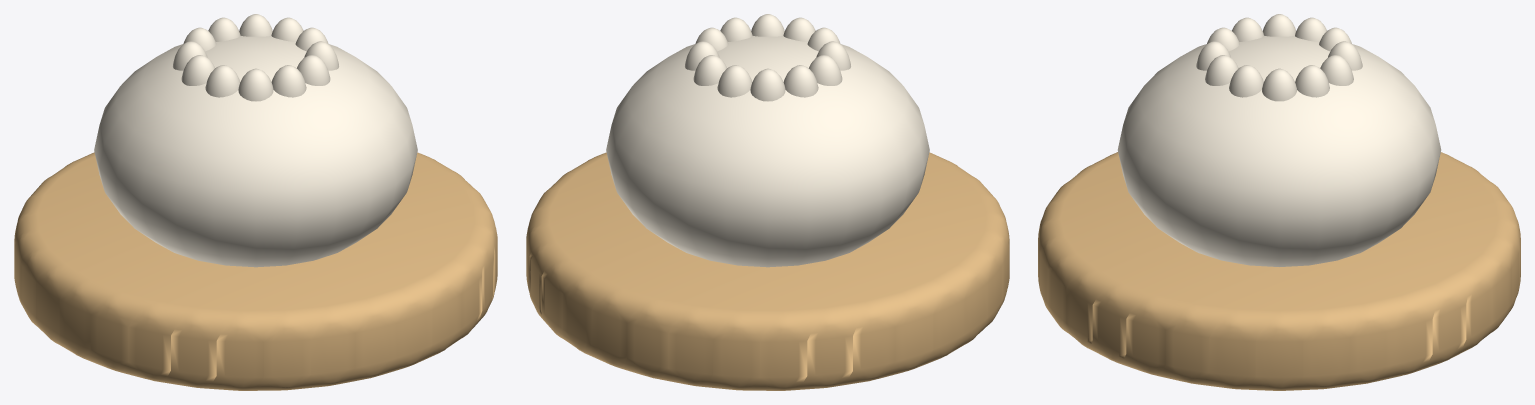
File: Hat_Xiaolongbao.glb
3 views of the same model, side by side, from view 1: azimuth 30°, elevation 25°; view 2: azimuth 150°, elevation 25°; view 3: azimuth 270°, elevation 25° (orthographic).
Parts seen in each view (by area): view 1: Cylinder, Sphere, Sphere.009, Sphere.010, Sphere.008, Sphere.007, Sphere.011, Sphere.003, Sphere.002, Sphere.004, Sphere.006, Sphere.012 (+2 smaller); view 2: Cylinder, Sphere, Sphere.005, Sphere.004, Sphere.006, Sphere.003, Sphere.007, Sphere.011, Sphere.010, Sphere.012, Sphere.002, Sphere.008 (+2 smaller); view 3: Cylinder, Sphere, Sphere.001, Sphere.002, Sphere.012, Sphere.003, Sphere.011, Sphere.007, Sphere.006, Sphere.008, Sphere.004, Sphere.010 (+2 smaller).
Boxes of the visible parts, box(x1,y1,x2,y2) form: Cylinder: box(14, 152, 497, 390); Sphere: box(94, 36, 417, 267); Sphere.009: box(238, 68, 273, 101); Sphere.010: box(271, 65, 306, 97); Sphere.008: box(205, 65, 240, 97); Sphere.007: box(181, 55, 214, 85); Sphere.011: box(297, 55, 330, 85); Sphere.003: box(239, 14, 272, 36); Sphere.002: box(271, 17, 303, 41); Sphere.004: box(208, 17, 240, 41); Sphere.006: box(173, 41, 207, 70); Sphere.012: box(304, 41, 338, 70); Cylinder: box(526, 152, 1009, 390); Sphere: box(606, 36, 929, 267); Sphere.005: box(750, 68, 785, 101); Sphere.004: box(717, 65, 752, 97); Sphere.006: box(783, 65, 818, 97); Sphere.003: box(693, 55, 726, 85); Sphere.007: box(809, 55, 842, 85); Sphere.011: box(751, 14, 784, 36); Sphere.010: box(783, 17, 815, 41); Sphere.012: box(720, 17, 752, 41); Sphere.002: box(685, 41, 719, 70); Sphere.008: box(816, 41, 850, 70); Cylinder: box(1038, 152, 1520, 390); Sphere: box(1117, 35, 1441, 266); Sphere.001: box(1262, 68, 1296, 101); Sphere.002: box(1295, 65, 1329, 97); Sphere.012: box(1229, 65, 1263, 97); Sphere.003: box(1320, 55, 1353, 85); Sphere.011: box(1205, 55, 1238, 85); Sphere.007: box(1263, 14, 1295, 36); Sphere.006: box(1295, 17, 1326, 41); Sphere.008: box(1232, 17, 1263, 41); Sphere.004: box(1328, 41, 1362, 70); Sphere.010: box(1196, 41, 1230, 70).
Bounding box in the file's own units: 0.8947 × 0.52 × 0.8947.
